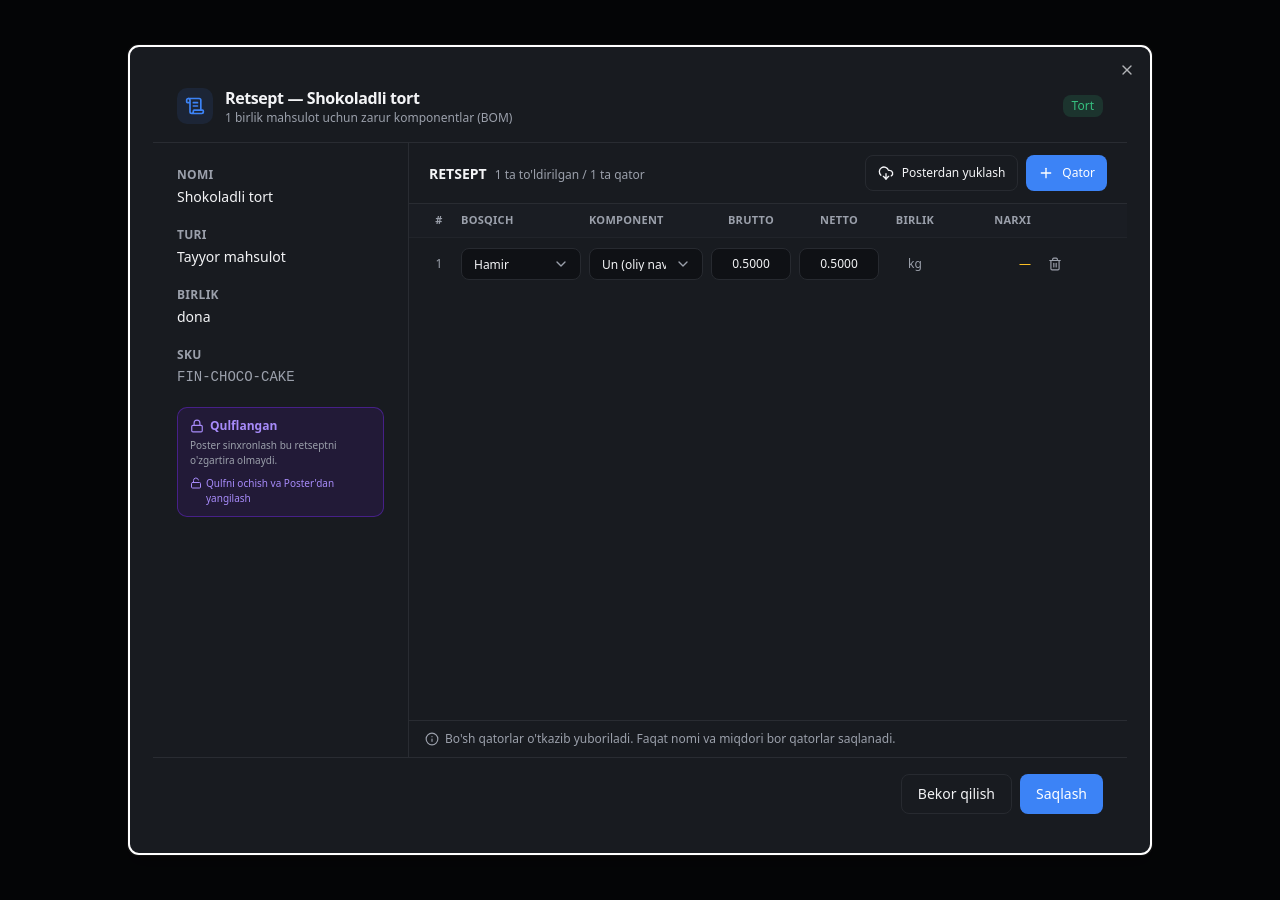
Test: RecipeDialog — Poster resync › apply (unlock / refresh from Poster) › unlock → confirm → POST apply, shows Poster components and "Qulfsiz"
The width and height of the screenshot is (1280, 900).
Expected: the 2nd dropdown showing "Un (oliy nav)" is shown, [589, 248, 703, 280]
Expected: the text "Qulflangan" is shown, [190, 417, 277, 434]
Step 1. Click the button "Qulfni ochish va Poster'dan yangilash" → [280, 491], box [190, 476, 371, 506]
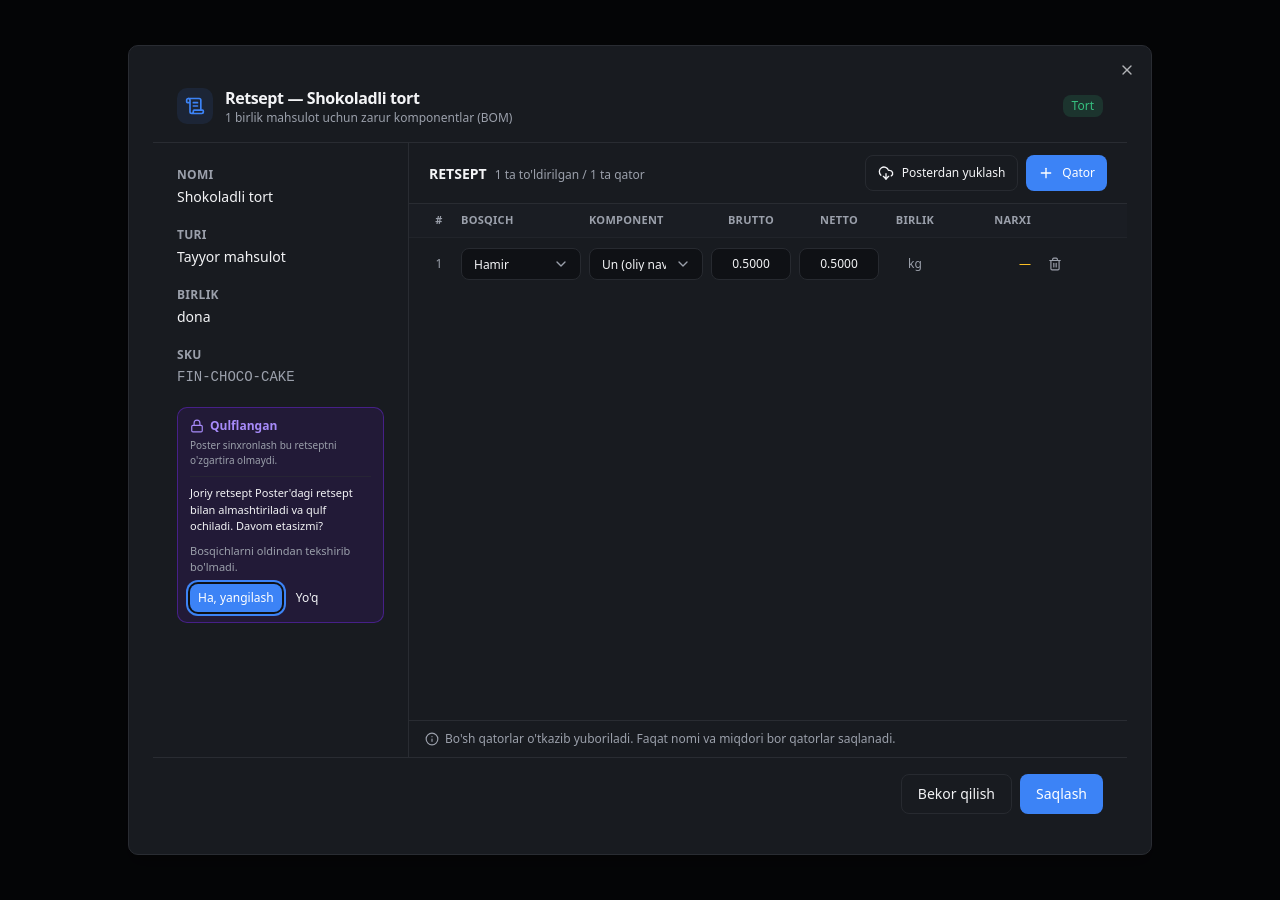
Expected: the button "Ha, yangilash" is enabled
Expected: the text "almashtiriladi va qulf ochiladi. Davom etasizmi?" is shown, [190, 485, 353, 533]
Step 2. Click the button "Ha, yangilash" → [236, 598], box [190, 584, 282, 612]
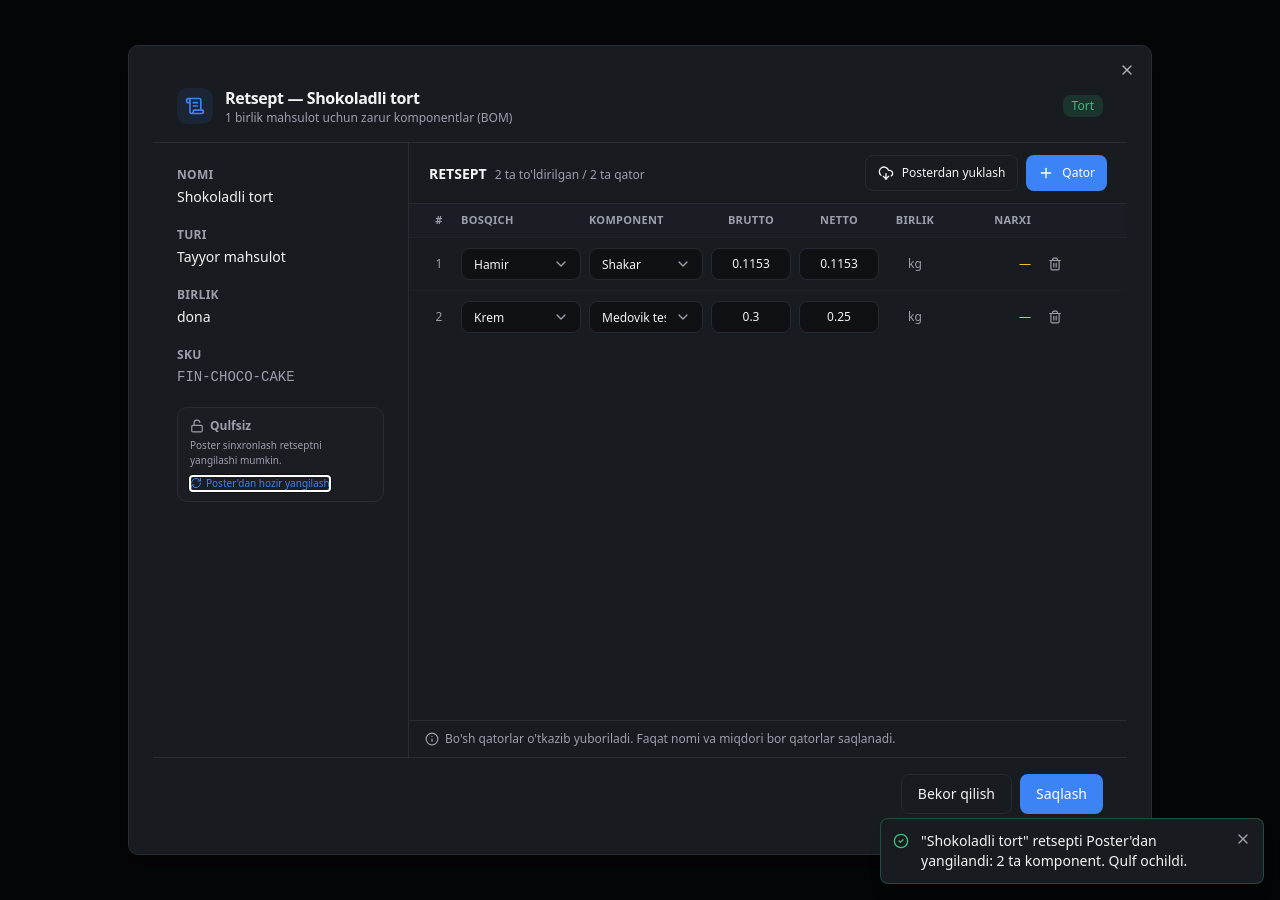
Expected: the text "Qulfsiz" is shown, [190, 417, 251, 434]
Expected: the 2nd dropdown showing "Shakar" is shown, [589, 248, 703, 280]
Expected: the 4th dropdown showing "Medovik testo" is shown, [589, 300, 703, 332]
